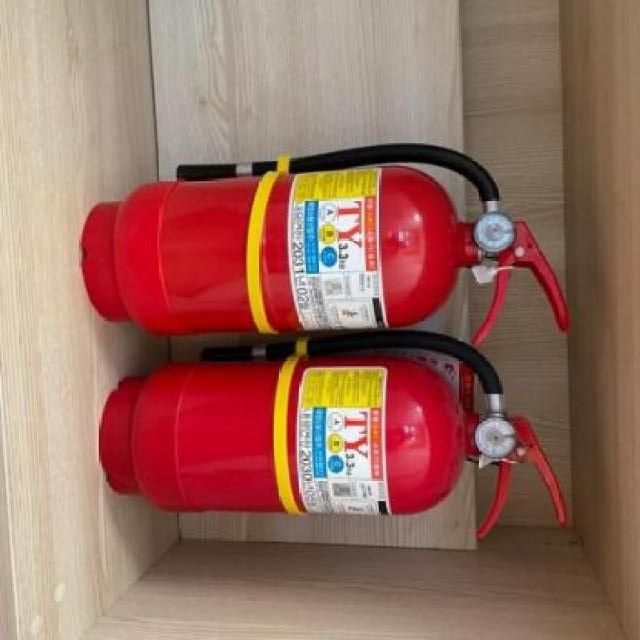fire extinguisher: (80, 142, 569, 344), (100, 328, 566, 537)
